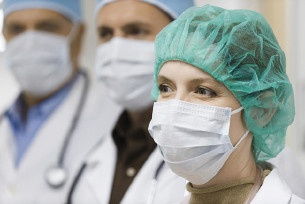Mask: (147, 73, 258, 184)
